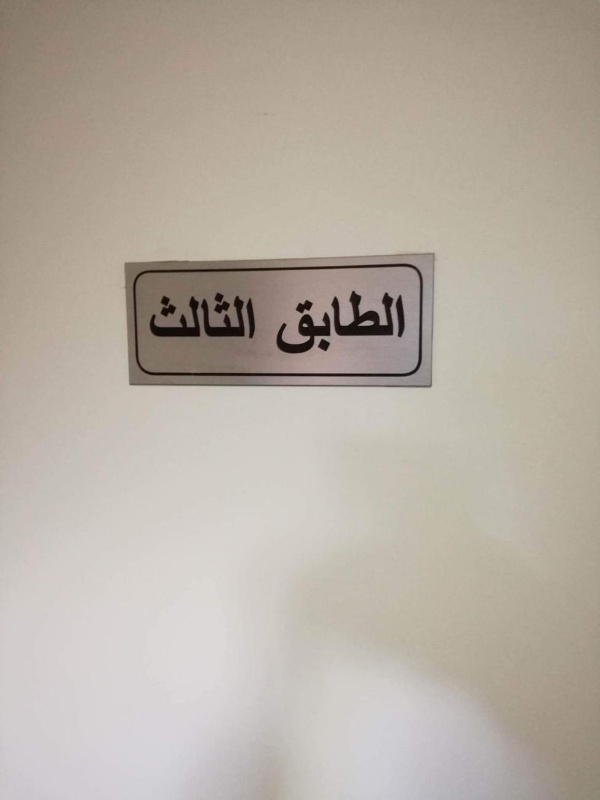text: (289, 290, 304, 361), (305, 290, 320, 361), (321, 290, 336, 361), (337, 290, 352, 361), (353, 290, 368, 361), (369, 290, 384, 361), (385, 290, 400, 361), (161, 291, 176, 339), (177, 291, 192, 339), (193, 291, 208, 339), (209, 291, 224, 339), (225, 291, 240, 339), (241, 291, 256, 339), (151, 291, 160, 339), (283, 290, 288, 361), (401, 290, 406, 361)
